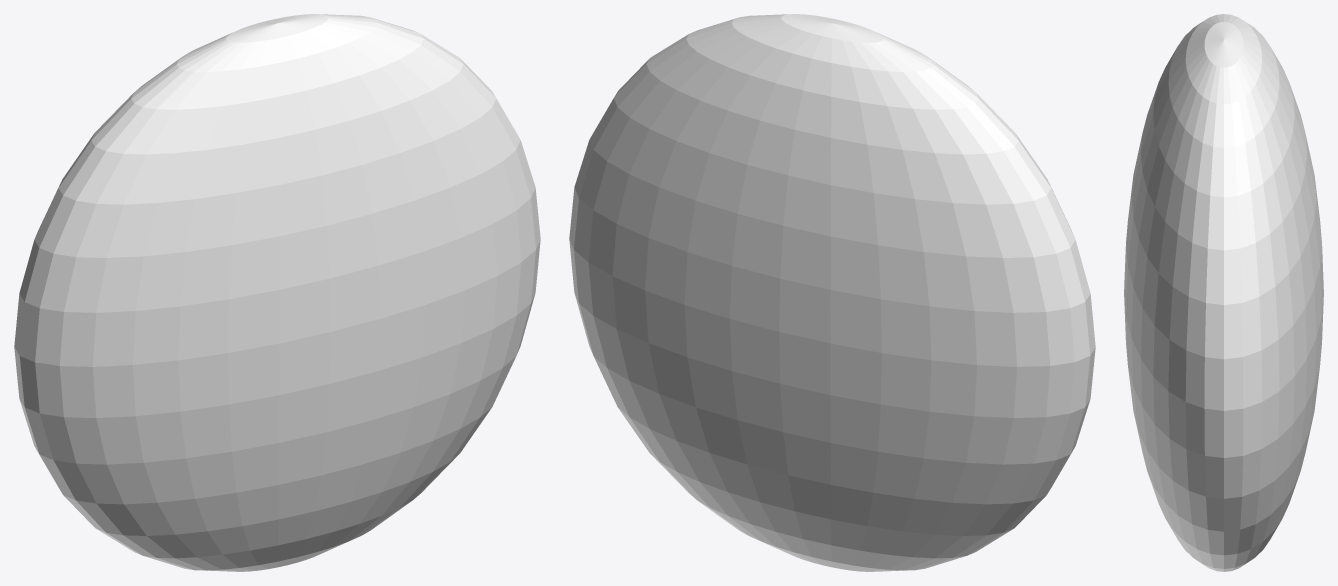
Rendered from Normal_face.obj.
3 views of the same model, side by side, from view 1: azimuth 30°, elevation 25°; view 2: azimuth 150°, elevation 25°; view 3: azimuth 270°, elevation 25° (orthographic). The views are drawn at different scales.
Size of the model in its own units: 2 by 2 by 0.7161.
